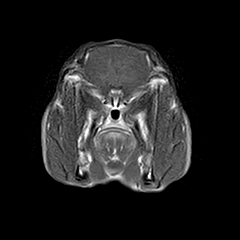Brain: (69, 22, 168, 120)
